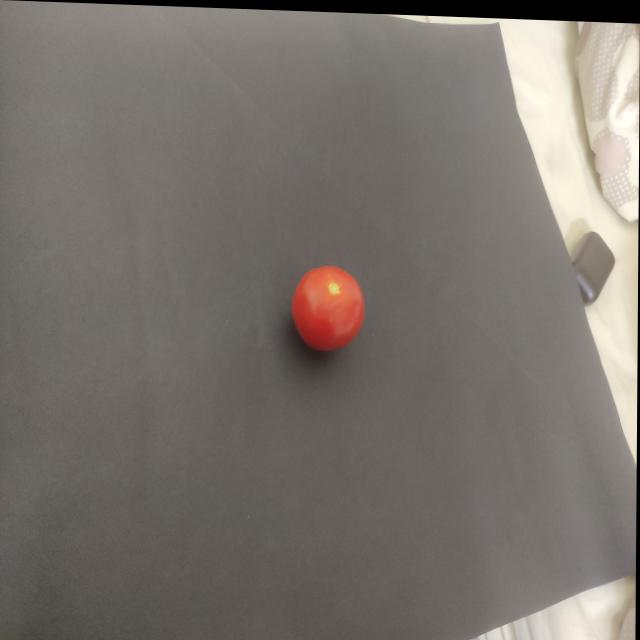kirmizi: (284, 239, 372, 357)
